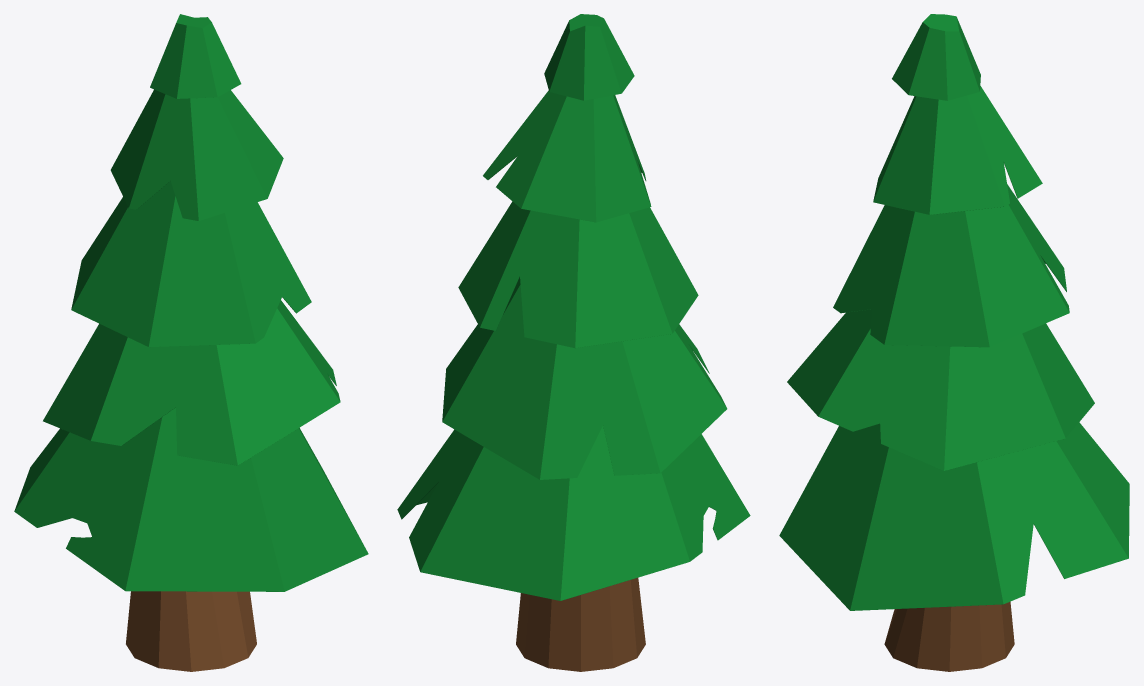
The model's file is Tannenbaum.fbx.
The picture shows the model from 3 angles, left to right: view 1: azimuth 30°, elevation 25°; view 2: azimuth 150°, elevation 25°; view 3: azimuth 270°, elevation 25°; orthographic projection.
Visible parts, largest first — view 1: Tannenbaum; view 2: Tannenbaum; view 3: Tannenbaum.
Part boxes in pixels (<box>): Tannenbaum: <box>14,14,368,671</box>; Tannenbaum: <box>397,14,750,671</box>; Tannenbaum: <box>779,14,1129,671</box>.
Size of the model in its own units: 646 by 1288 by 655.
